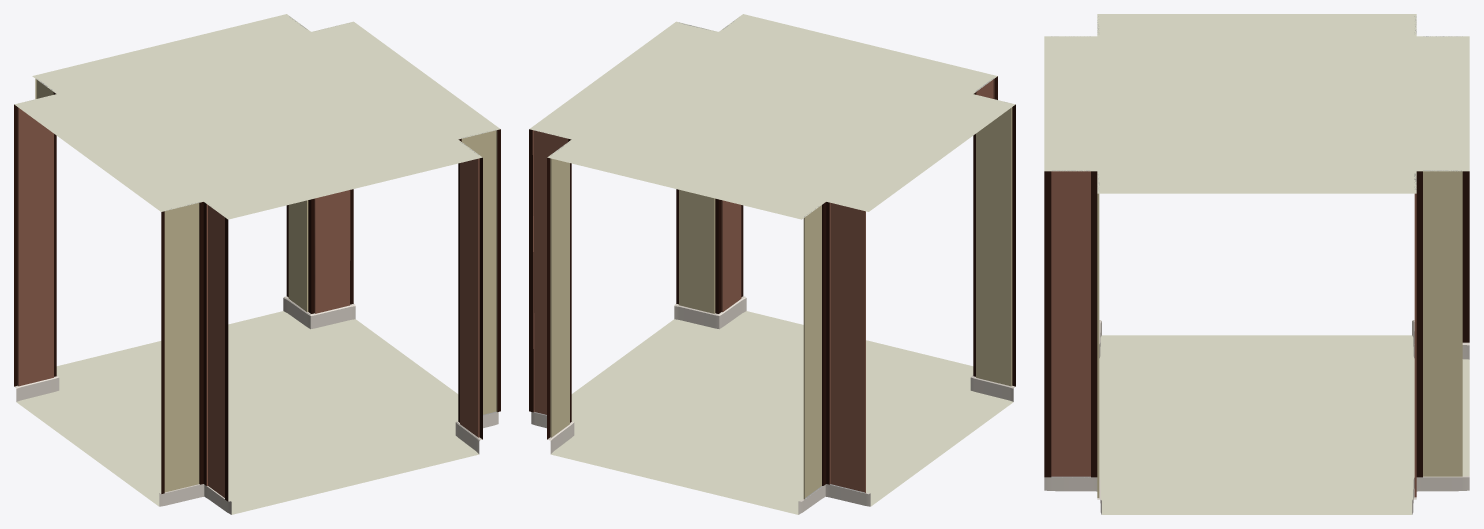
The model's file is CorridorXJunction.fbx.
The picture shows the model from 3 angles, left to right: view 1: azimuth 30°, elevation 25°; view 2: azimuth 150°, elevation 25°; view 3: azimuth 270°, elevation 25°; orthographic projection. The views are drawn at different scales.
Parts seen in each view (by area): view 1: corridorCorner6; view 2: corridorCorner6; view 3: corridorCorner6.
Part boxes in pixels (bbox=[...]): corridorCorner6: bbox=[14, 14, 500, 514]; corridorCorner6: bbox=[529, 14, 1015, 514]; corridorCorner6: bbox=[1044, 14, 1469, 514].
Bounding box in the file's own units: 450 × 375 × 450.
